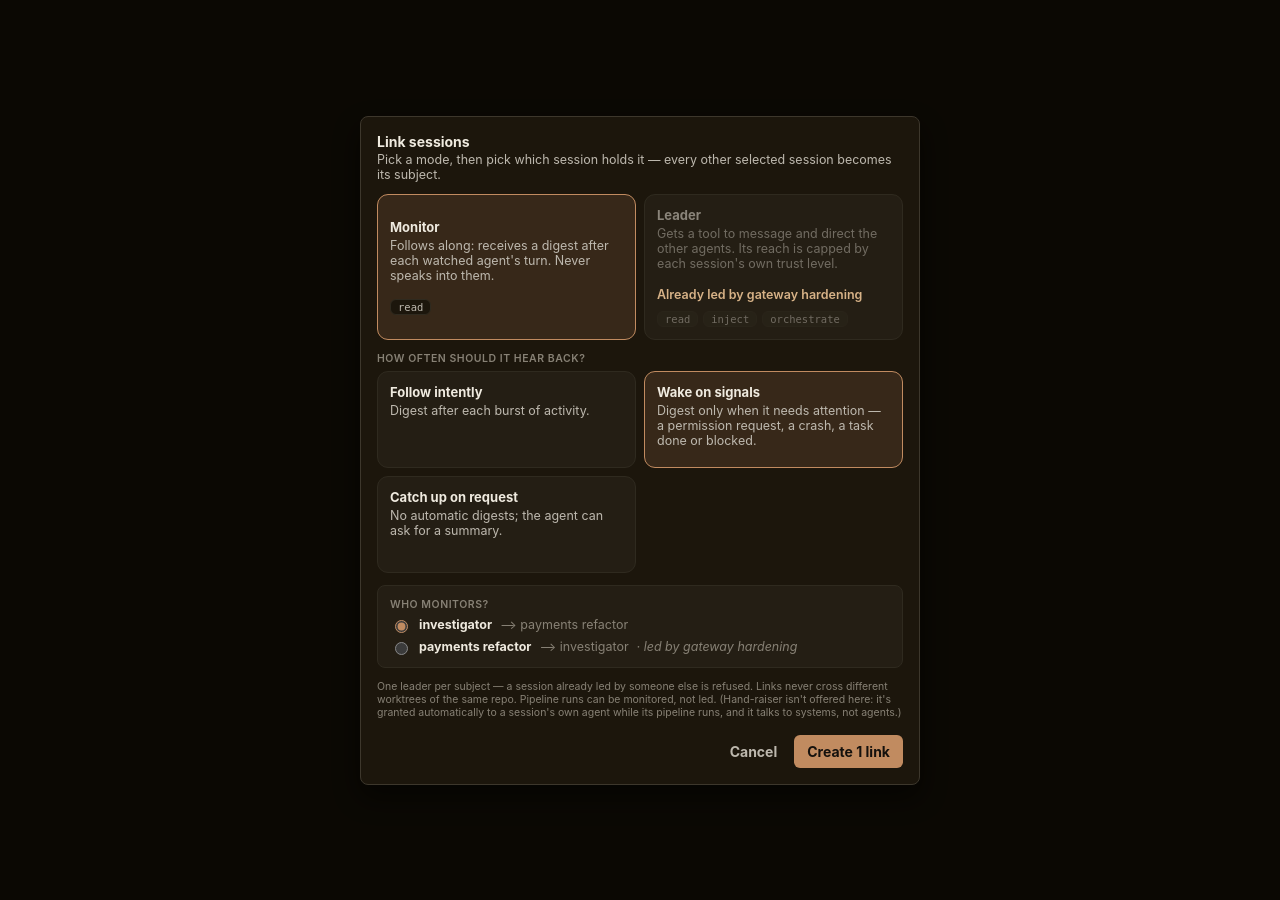
LinkChooserDialog › subjects that already have a leader › gives Leader back once the led session becomes the holder instead of a subject
Expected: the button "Leader" is disabled, [644, 194, 903, 340]
Click the radio button labelled "payments refactor ⟶ investigator · led by gateway hardening": (402, 648) [395, 642, 408, 654]
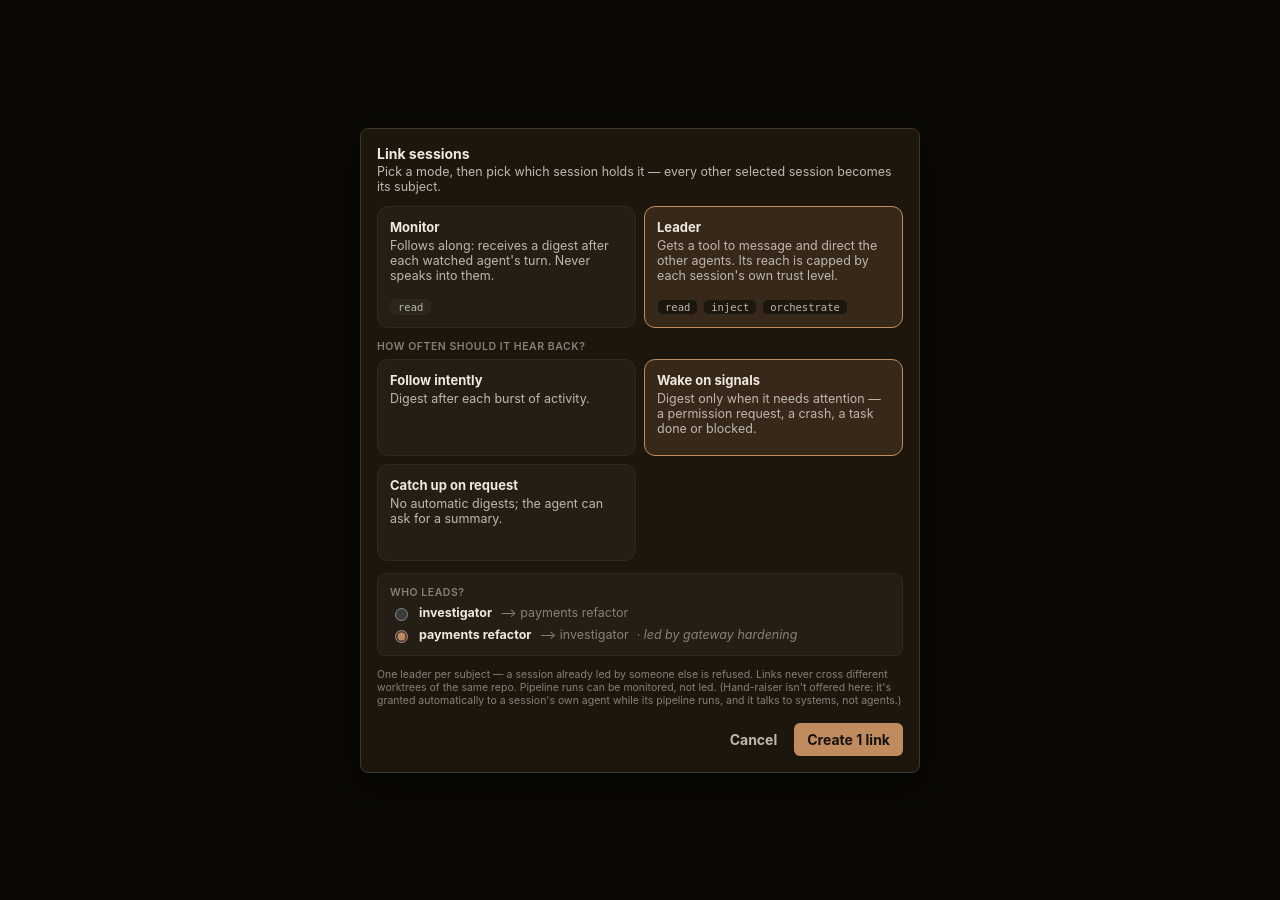
Now the button "Leader" is enabled, box [644, 206, 903, 328]
